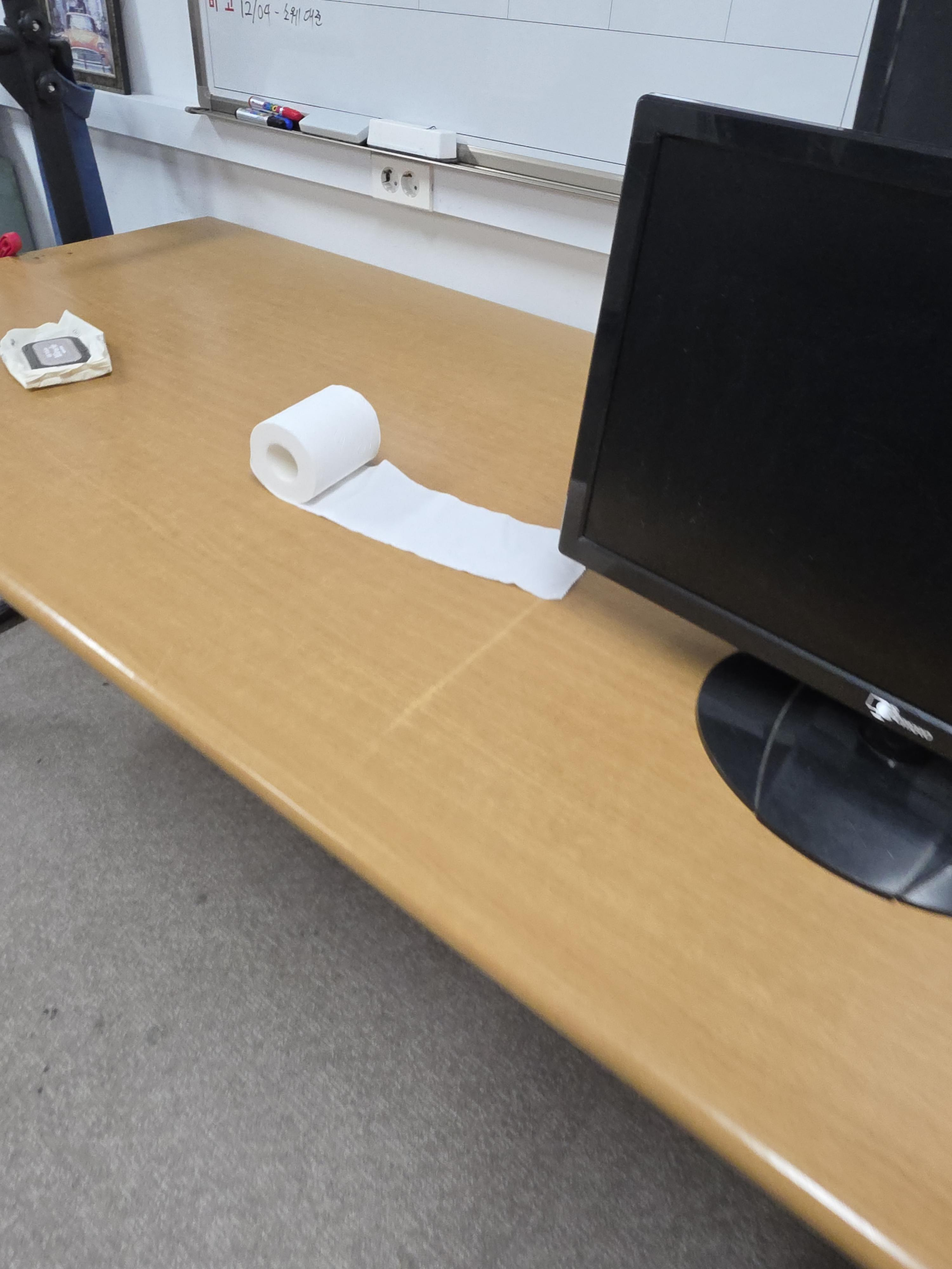tissue: (249, 384, 585, 601), (0, 310, 112, 390)
